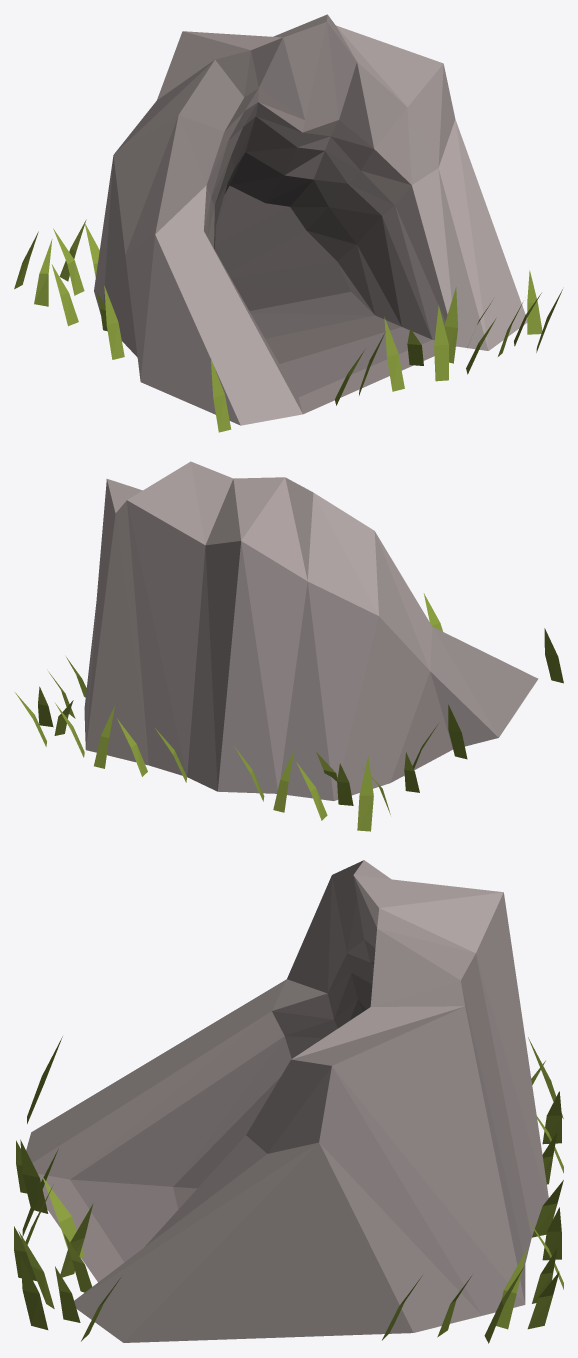
The model's file is dungeon.gltf.
3 renders of one model, top to bottom at view 1: azimuth 30°, elevation 25°; view 2: azimuth 150°, elevation 25°; view 3: azimuth 270°, elevation 25°, orthographic. The views are drawn at different scales.
Size of the model in its own units: 255 by 177 by 256.
1 material, 1 textured.
